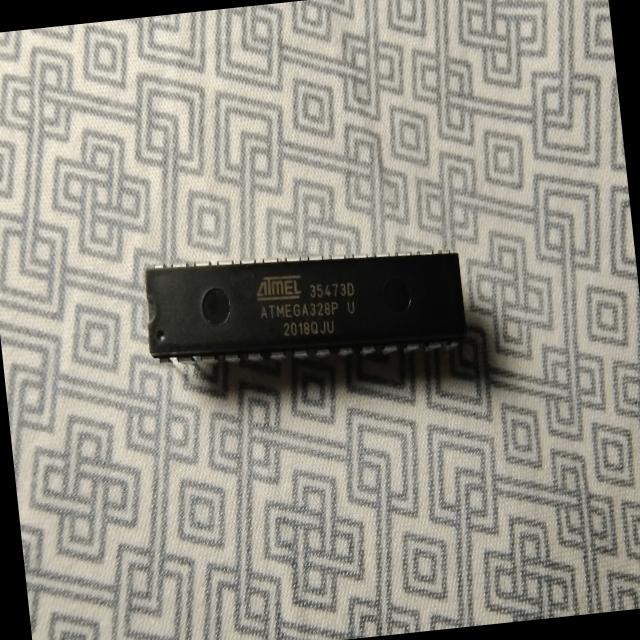atmega: (138, 230, 472, 392)
